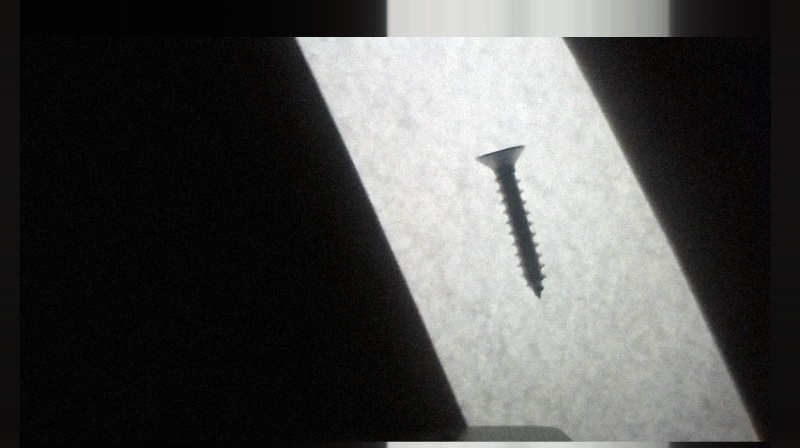S001: (471, 140, 551, 303)
